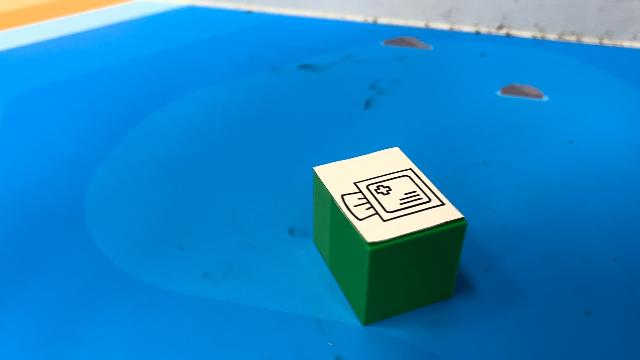napkin: (311, 144, 469, 326)
